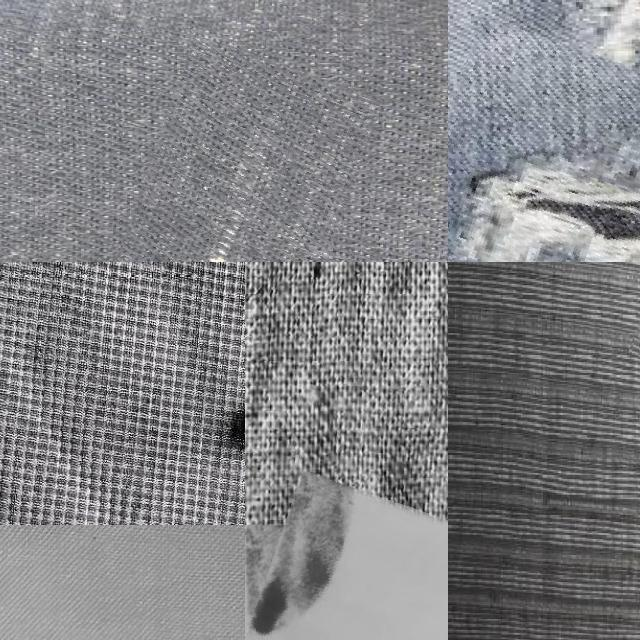Hole: (226, 498, 448, 640), (244, 525, 379, 640)
Thread_other: (119, 46, 362, 262)
seam: (448, 53, 640, 262)
